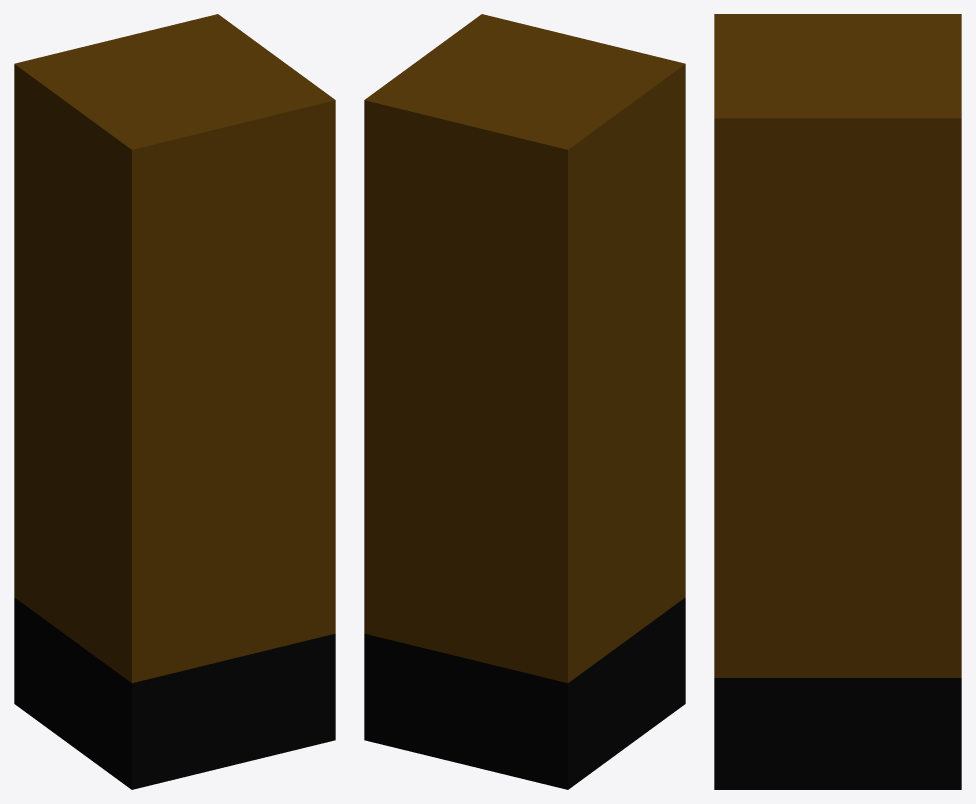
The model's file is bear_leg.fbx.
3 renders of one model, left to right at view 1: azimuth 30°, elevation 25°; view 2: azimuth 150°, elevation 25°; view 3: azimuth 270°, elevation 25°, orthographic. The views are drawn at different scales.
Parts seen in each view (by area): view 1: bear_F_L; view 2: bear_F_L; view 3: bear_F_L.
Part boxes in pixels (<box>): bear_F_L: <box>14,14,335,789</box>; bear_F_L: <box>364,14,685,789</box>; bear_F_L: <box>714,14,961,789</box>.
Bounding box in the file's own units: 0.2 × 0.6 × 0.2.
